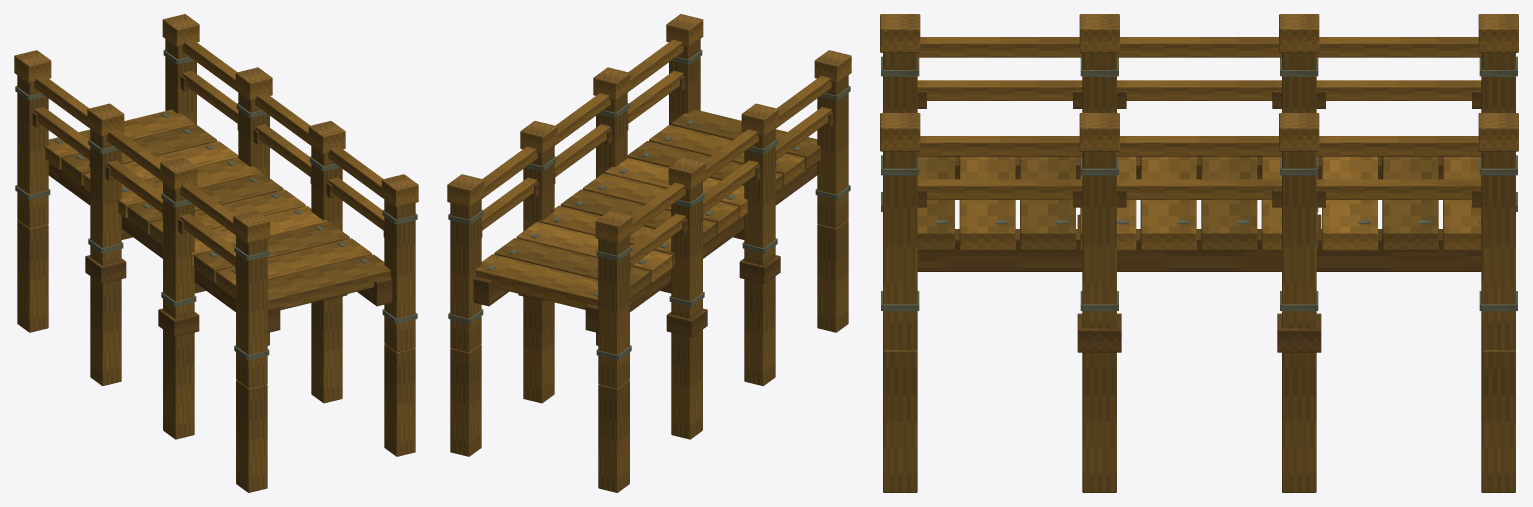
The model's file is SM_Blender_RiverBridge.glb.
The picture shows the model from 3 angles, left to right: view 1: azimuth 30°, elevation 25°; view 2: azimuth 150°, elevation 25°; view 3: azimuth 270°, elevation 25°; orthographic projection. The views are drawn at different scales.
Visible parts, largest first — view 1: SM_Blender_RiverBridge; view 2: SM_Blender_RiverBridge; view 3: SM_Blender_RiverBridge.
Part boxes in pixels (bbox=[...]): SM_Blender_RiverBridge: bbox=[14, 14, 418, 492]; SM_Blender_RiverBridge: bbox=[447, 14, 851, 492]; SM_Blender_RiverBridge: bbox=[880, 14, 1518, 492].
Bounding box in the file's own units: 1.43 × 2.11 × 3.33.
1 material, 1 textured.
